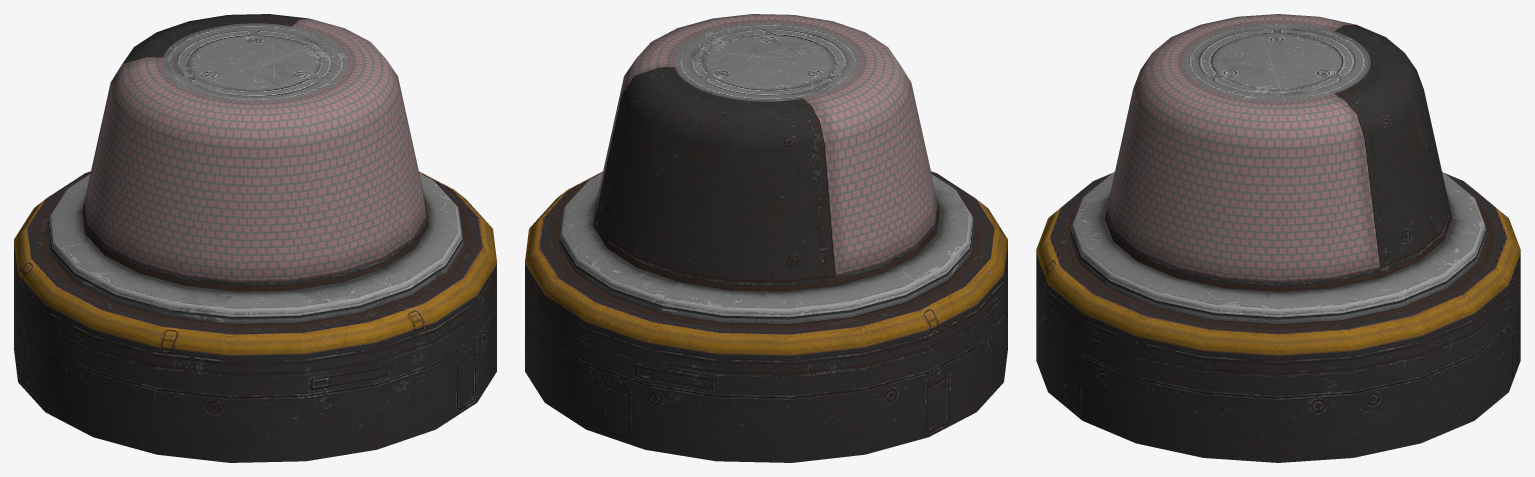
The model's file is Lamp_Position_L0.fbx.
3 views of the same model, side by side, from view 1: azimuth 30°, elevation 25°; view 2: azimuth 150°, elevation 25°; view 3: azimuth 270°, elevation 25° (orthographic).
Parts seen in each view (by area): view 1: Lamp, Base; view 2: Lamp, Base; view 3: Lamp, Base.
Part boxes in pixels (x1,y1,x2,y2): Lamp: (47,14,463,324); Base: (14,171,496,462); Lamp: (558,14,974,324); Base: (525,171,1007,462); Lamp: (1069,14,1487,324); Base: (1036,173,1520,462).
Size of the model in its own units: 17.79 by 12.07 by 17.79.
